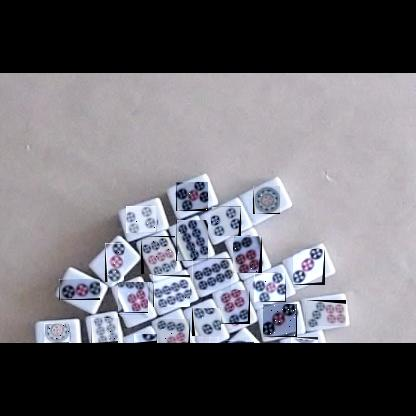1p: (253, 186, 280, 214), (44, 323, 70, 343), (291, 337, 318, 343), (226, 340, 254, 343)
2p: (134, 334, 157, 343)
3p: (293, 249, 325, 285), (263, 304, 297, 337), (59, 279, 100, 300), (105, 243, 124, 282)
4p: (192, 309, 221, 341), (211, 206, 241, 236), (126, 206, 157, 233)
5p: (176, 182, 208, 211), (254, 273, 286, 302)
6p: (233, 236, 262, 273), (221, 290, 250, 324)
7p: (119, 283, 153, 318), (305, 300, 346, 326), (157, 319, 190, 343)
8p: (176, 220, 208, 261), (192, 258, 231, 290), (153, 275, 190, 307), (91, 318, 118, 343)
9p: (141, 236, 175, 274)
